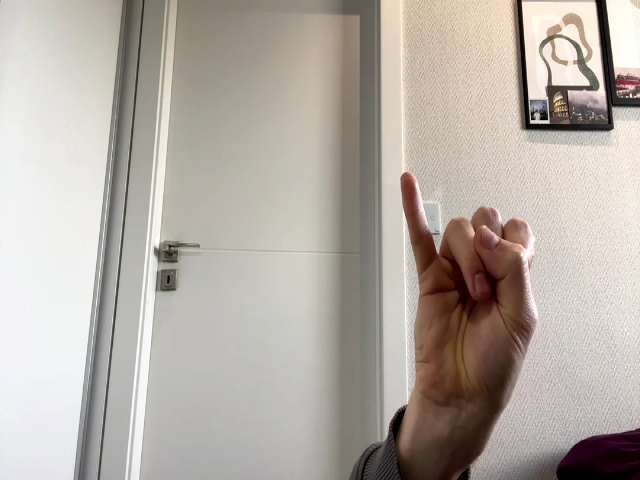I: (400, 173, 540, 397)
